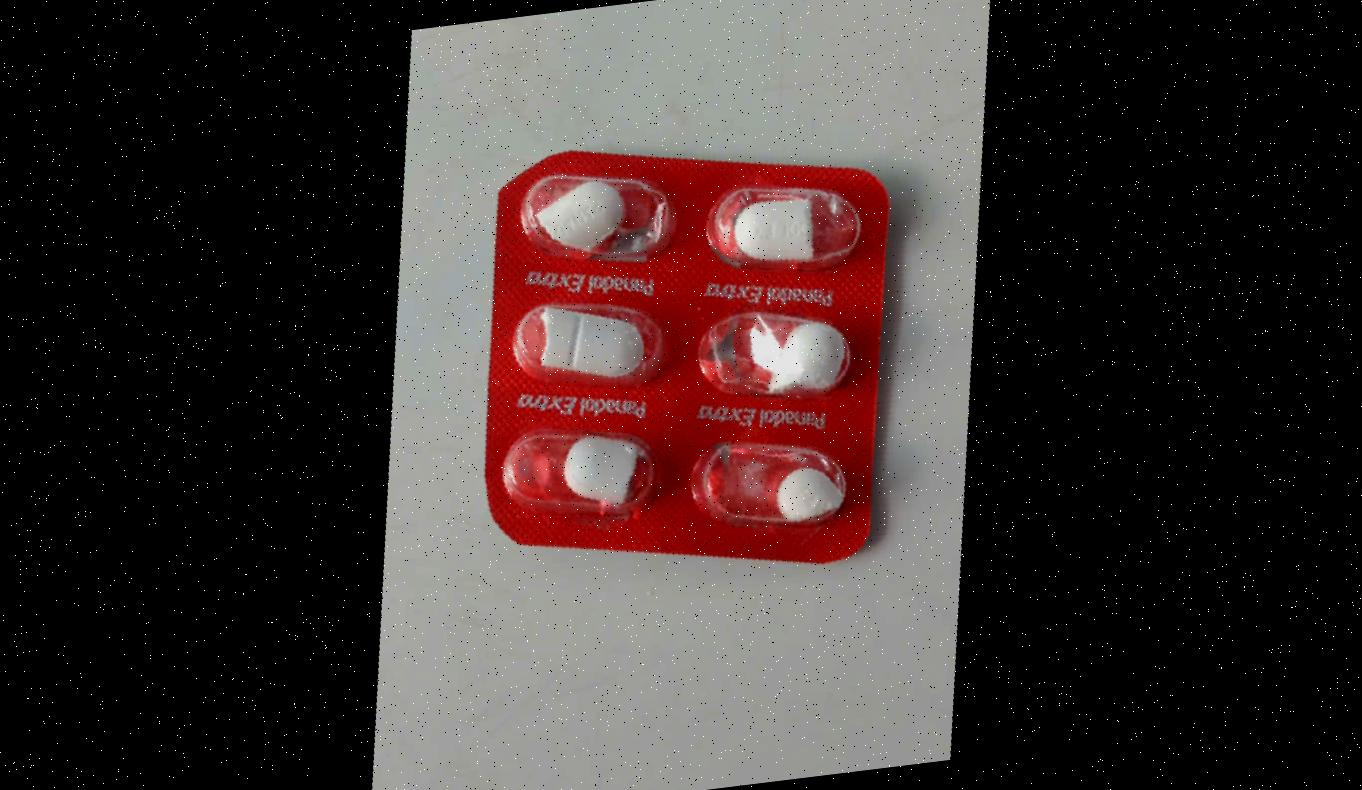Partial: (679, 286, 864, 403), (672, 417, 856, 534), (506, 161, 690, 278), (692, 169, 876, 285), (484, 408, 668, 524), (494, 279, 678, 395)
